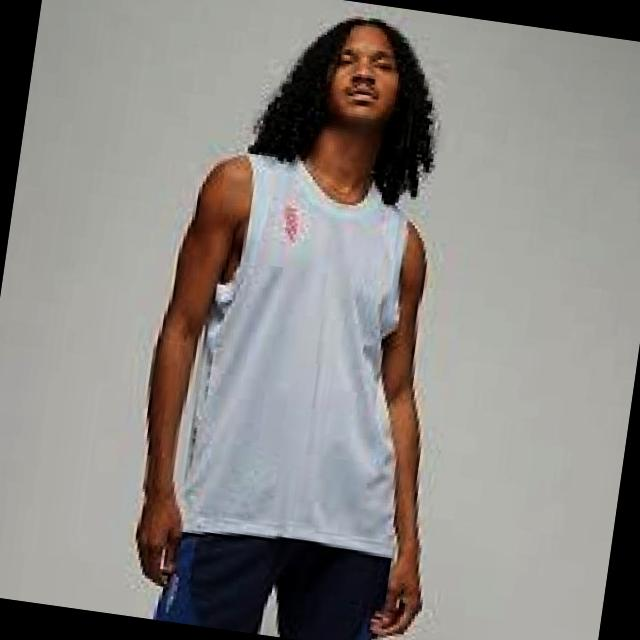no_vest: (163, 138, 450, 564)
